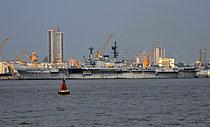MIL_Ship: (12, 40, 198, 80)
